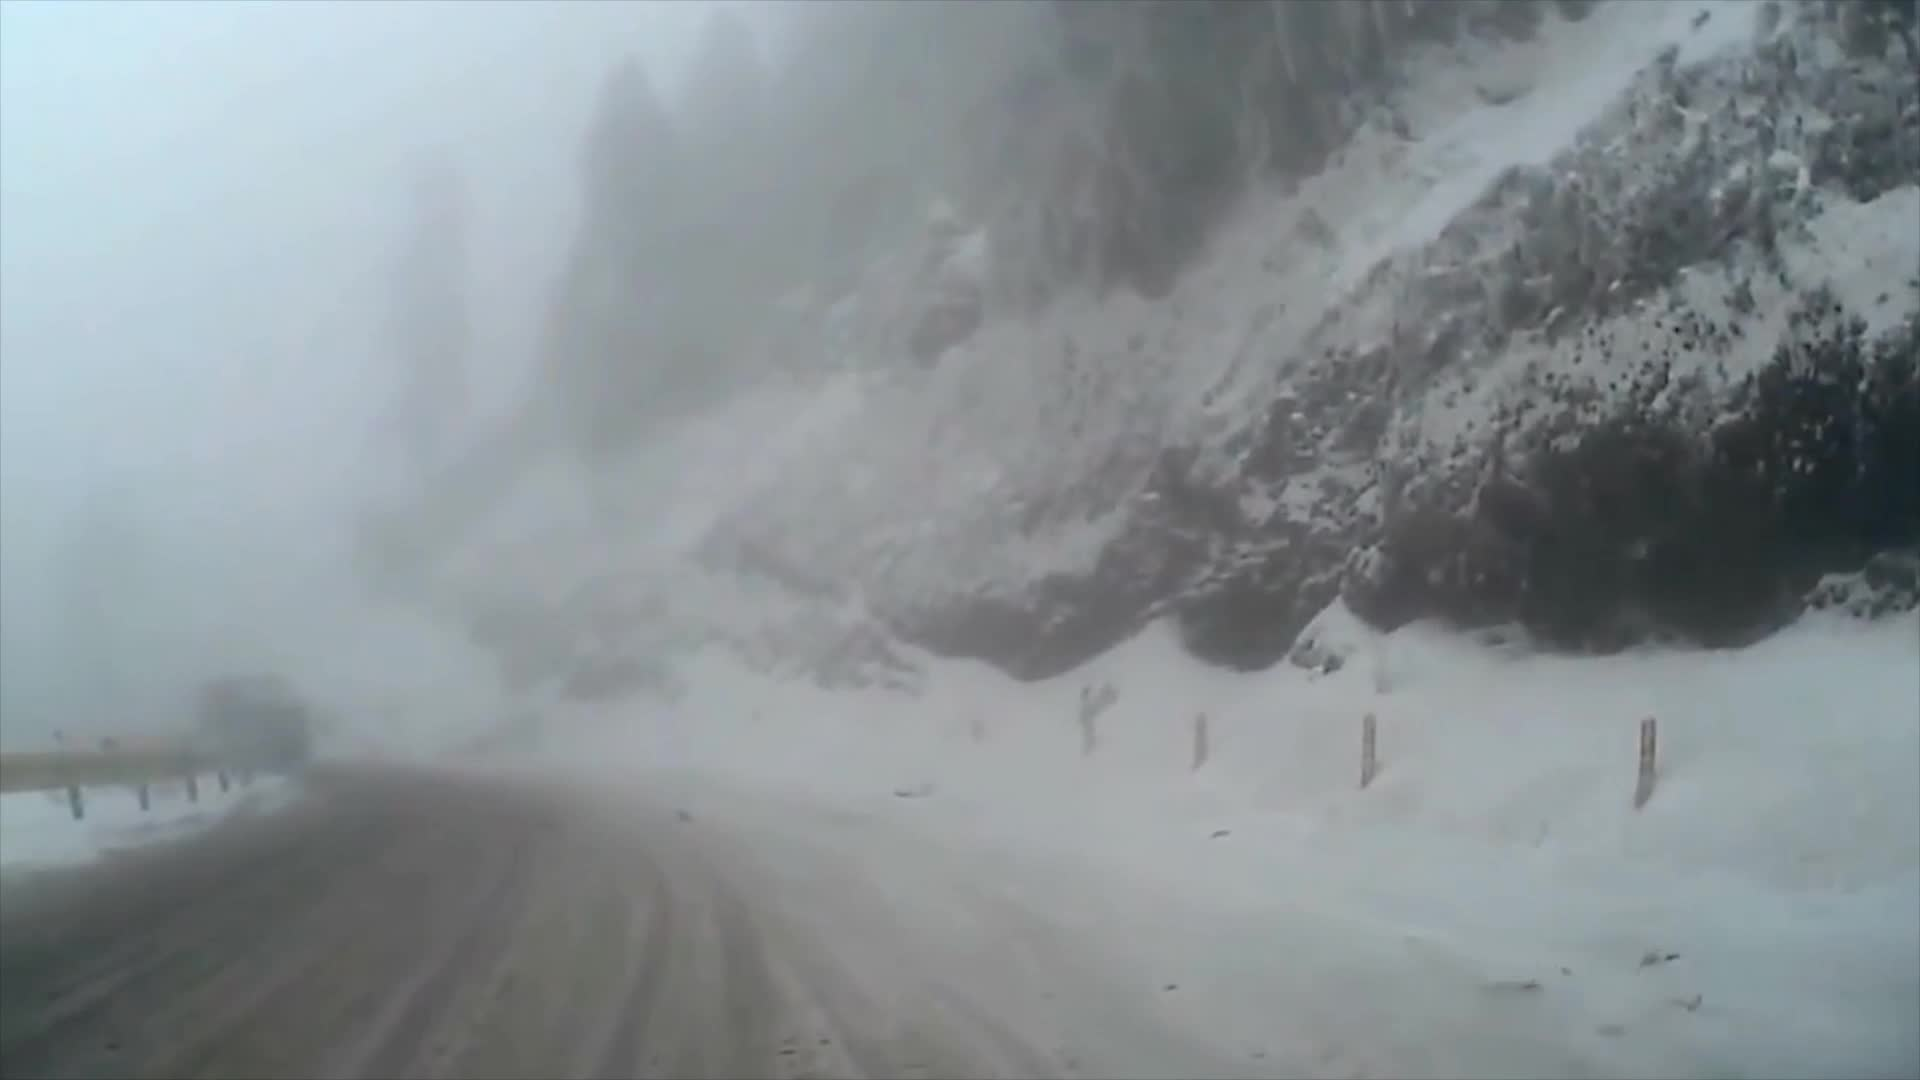vehicle: (196, 676, 309, 777)
